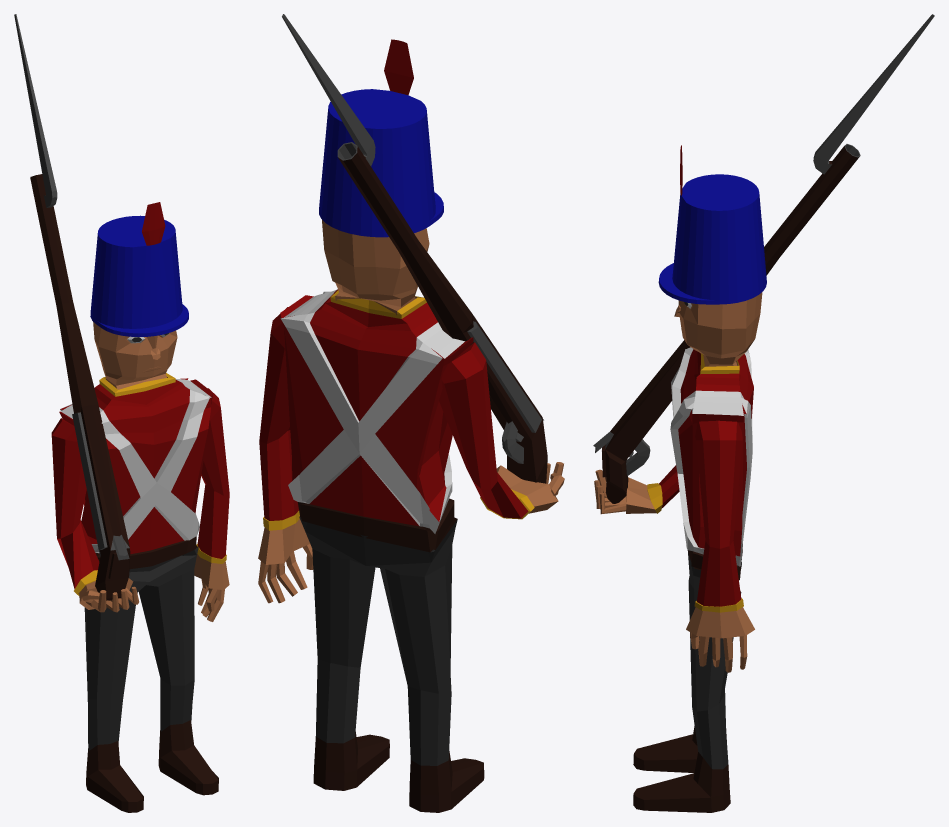
File: Frame1.obj
3 renders of one model, left to right at view 1: azimuth 30°, elevation 25°; view 2: azimuth 150°, elevation 25°; view 3: azimuth 270°, elevation 25°, orthographic. The views are drawn at different scales.
Visible parts, largest first — view 1: {Man}_Circle, {Mesket}_Cube.001; view 2: {Man}_Circle, {Mesket}_Cube.001; view 3: {Man}_Circle, {Mesket}_Cube.001.
Boxes of the visible parts, box(x1,y1,x2,y2) form: {Man}_Circle: box(51, 202, 229, 812); {Mesket}_Cube.001: box(14, 14, 130, 600); {Man}_Circle: box(258, 39, 564, 812); {Mesket}_Cube.001: box(282, 14, 547, 483); {Man}_Circle: box(594, 145, 766, 812); {Mesket}_Cube.001: box(593, 14, 934, 503).
Bounding box in the file's own units: 5.63 × 19.52 × 7.96.
